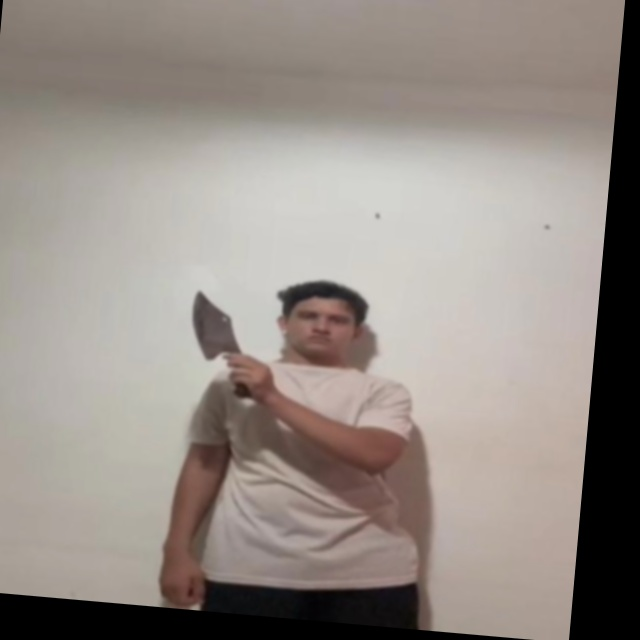Sharp-Object: (182, 289, 245, 362)
